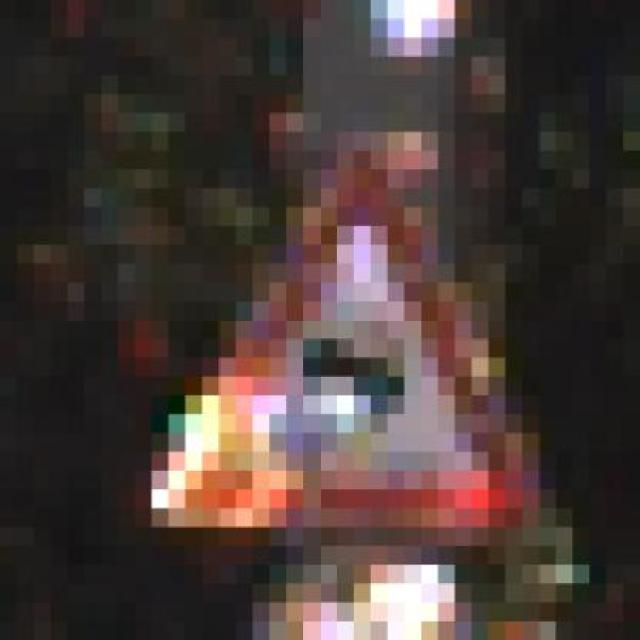Slippery Road Ahead: (135, 132, 522, 546)
